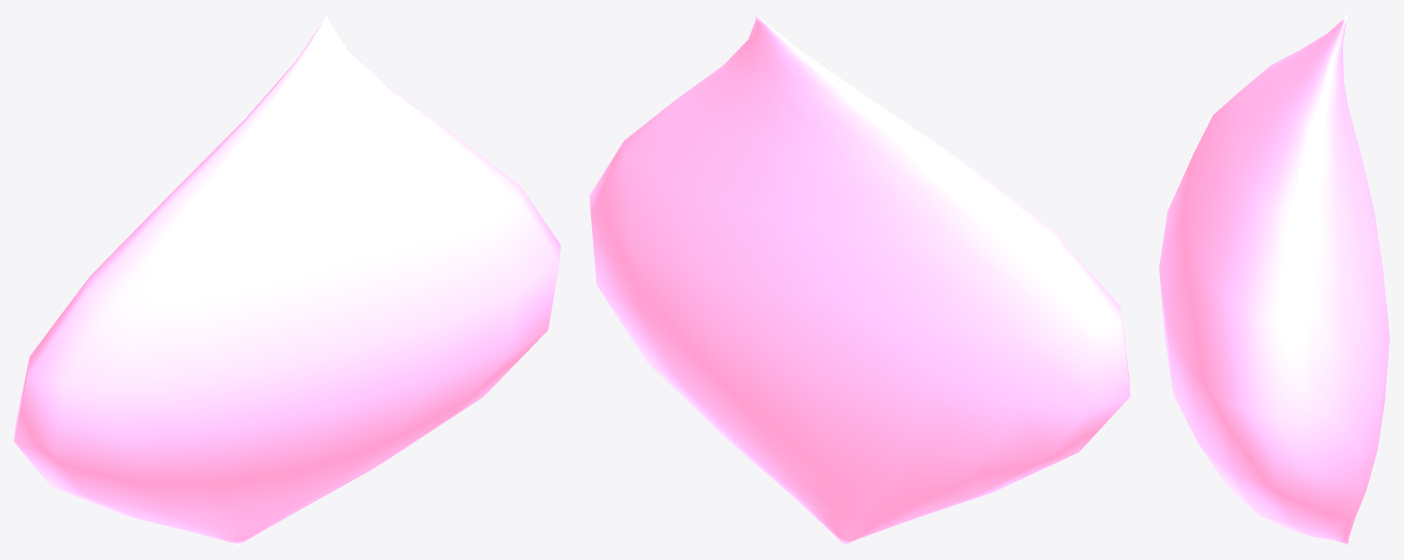
File: memory_petal.glb
3 renders of one model, left to right at view 1: azimuth 30°, elevation 25°; view 2: azimuth 150°, elevation 25°; view 3: azimuth 270°, elevation 25°, orthographic. The views are drawn at different scales.
Parts seen in each view (by area): view 1: Petal_Body; view 2: Petal_Body; view 3: Petal_Body.
Boxes of the visible parts, box(x1,y1,x2,y2) form: Petal_Body: box(14, 14, 560, 545); Petal_Body: box(589, 14, 1130, 545); Petal_Body: box(1159, 14, 1389, 545).
Bounding box in the file's own units: 0.5576 × 0.5 × 0.1801.
